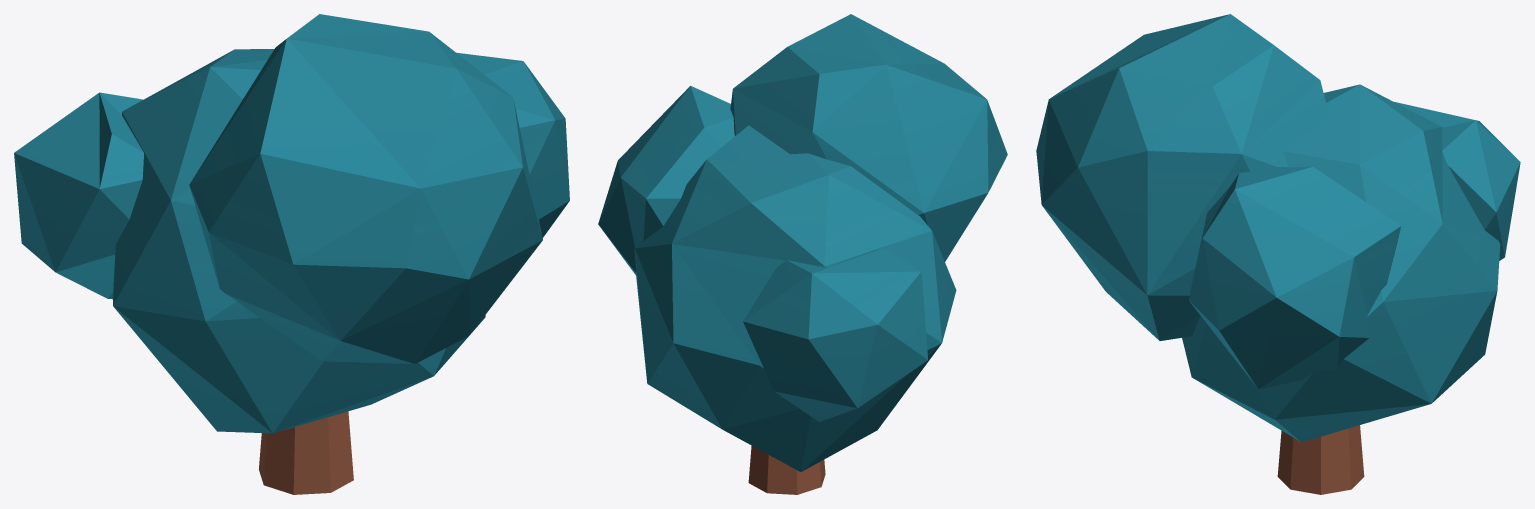
The model's file is Bush_5_gradient_blue.fbx.
The picture shows the model from 3 angles, left to right: view 1: azimuth 30°, elevation 25°; view 2: azimuth 150°, elevation 25°; view 3: azimuth 270°, elevation 25°; orthographic projection. The views are drawn at different scales.
Parts seen in each view (by area): view 1: Bush_5_gradient_blue; view 2: Bush_5_gradient_blue; view 3: Bush_5_gradient_blue.
Boxes of the visible parts, x1,y1,x2,y2 form: Bush_5_gradient_blue: [14, 14, 569, 494]; Bush_5_gradient_blue: [598, 14, 1007, 494]; Bush_5_gradient_blue: [1036, 14, 1520, 494].
Bounding box in the file's own units: 31.34 × 32.92 × 33.43.
